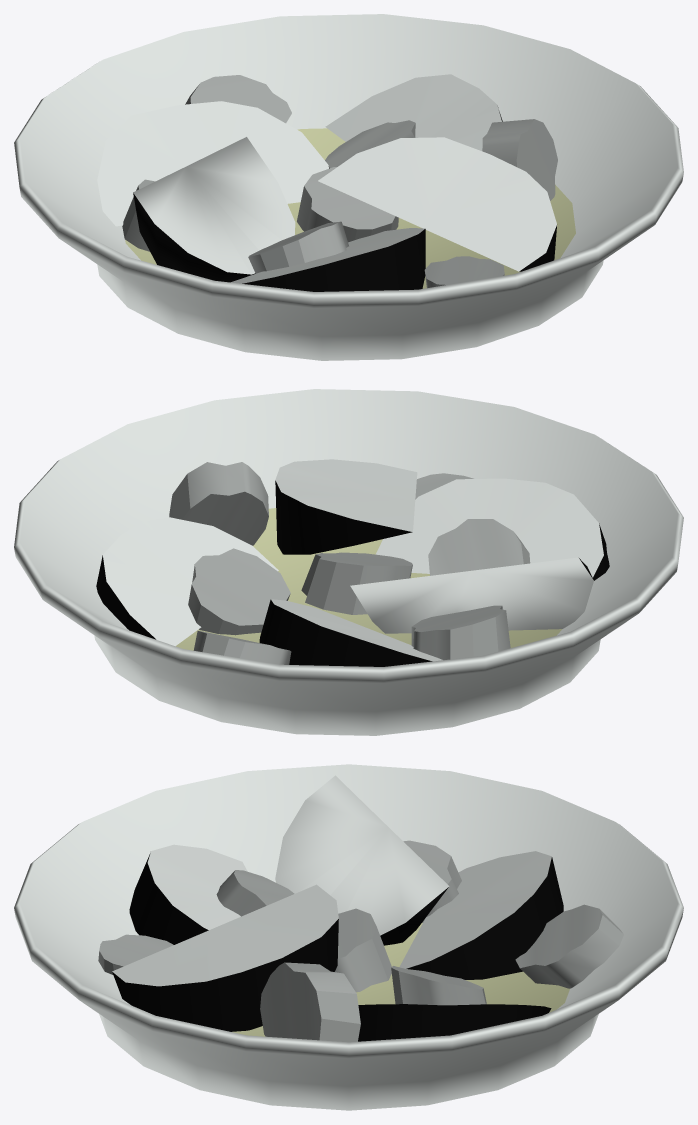
3 renders of one model, top to bottom at view 1: azimuth 30°, elevation 25°; view 2: azimuth 150°, elevation 25°; view 3: azimuth 270°, elevation 25°, orthographic.
Parts seen in each view (by area): view 1: G:\FFXIV-MapTools\exports\y6f3\bg\ex5\02_ykt_y6\fld\y6f3\bgp (×6); view 2: G:\FFXIV-MapTools\exports\y6f3\bg\ex5\02_ykt_y6\fld\y6f3\bgp (×6); view 3: G:\FFXIV-MapTools\exports\y6f3\bg\ex5\02_ykt_y6\fld\y6f3\bgp (×6).
Boxes of the visible parts, left/top/right/bottom form: G:\FFXIV-MapTools\exports\y6f3\bg\ex5\02_ykt_y6\fld\y6f3\bgp (×6): left=14, top=14, right=683, bottom=360; G:\FFXIV-MapTools\exports\y6f3\bg\ex5\02_ykt_y6\fld\y6f3\bgp (×6): left=14, top=389, right=683, bottom=735; G:\FFXIV-MapTools\exports\y6f3\bg\ex5\02_ykt_y6\fld\y6f3\bgp (×6): left=14, top=764, right=683, bottom=1110.
Size of the model in its own units: 0.4189 by 0.088 by 0.4189.
